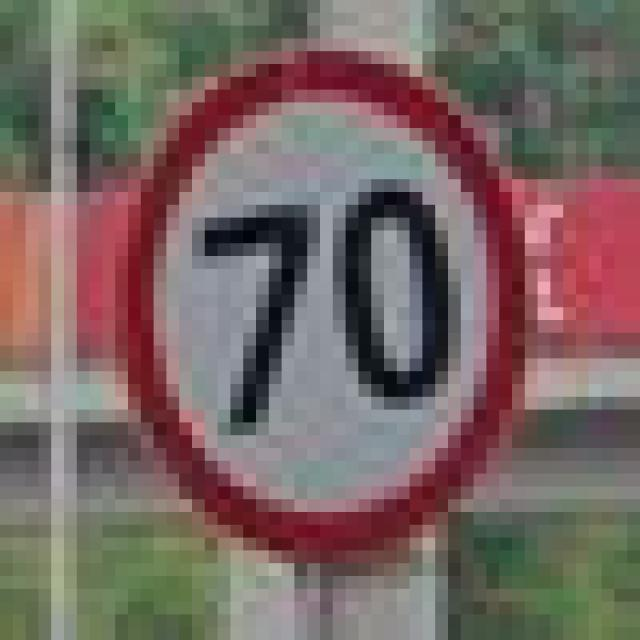SPEED_LIMIT_70: (115, 39, 525, 538)
